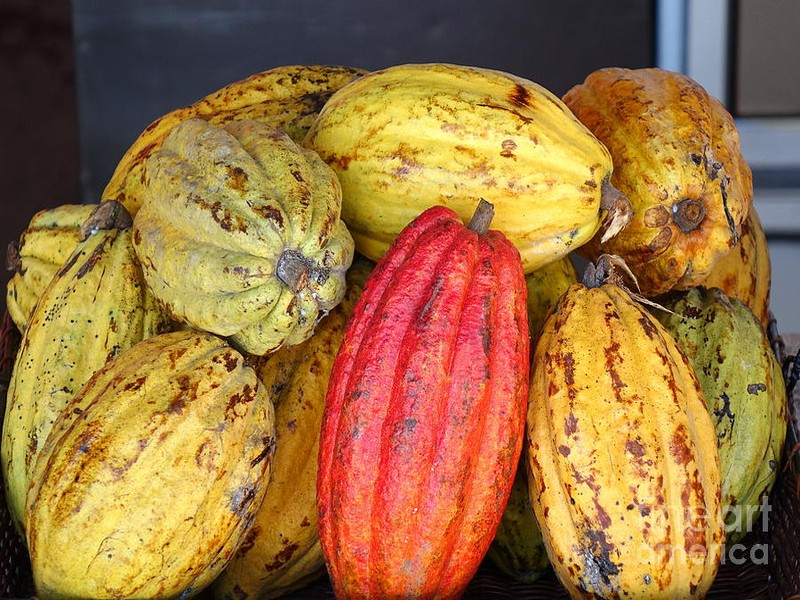Cacaopod: (311, 196, 530, 599), (23, 331, 274, 600)
